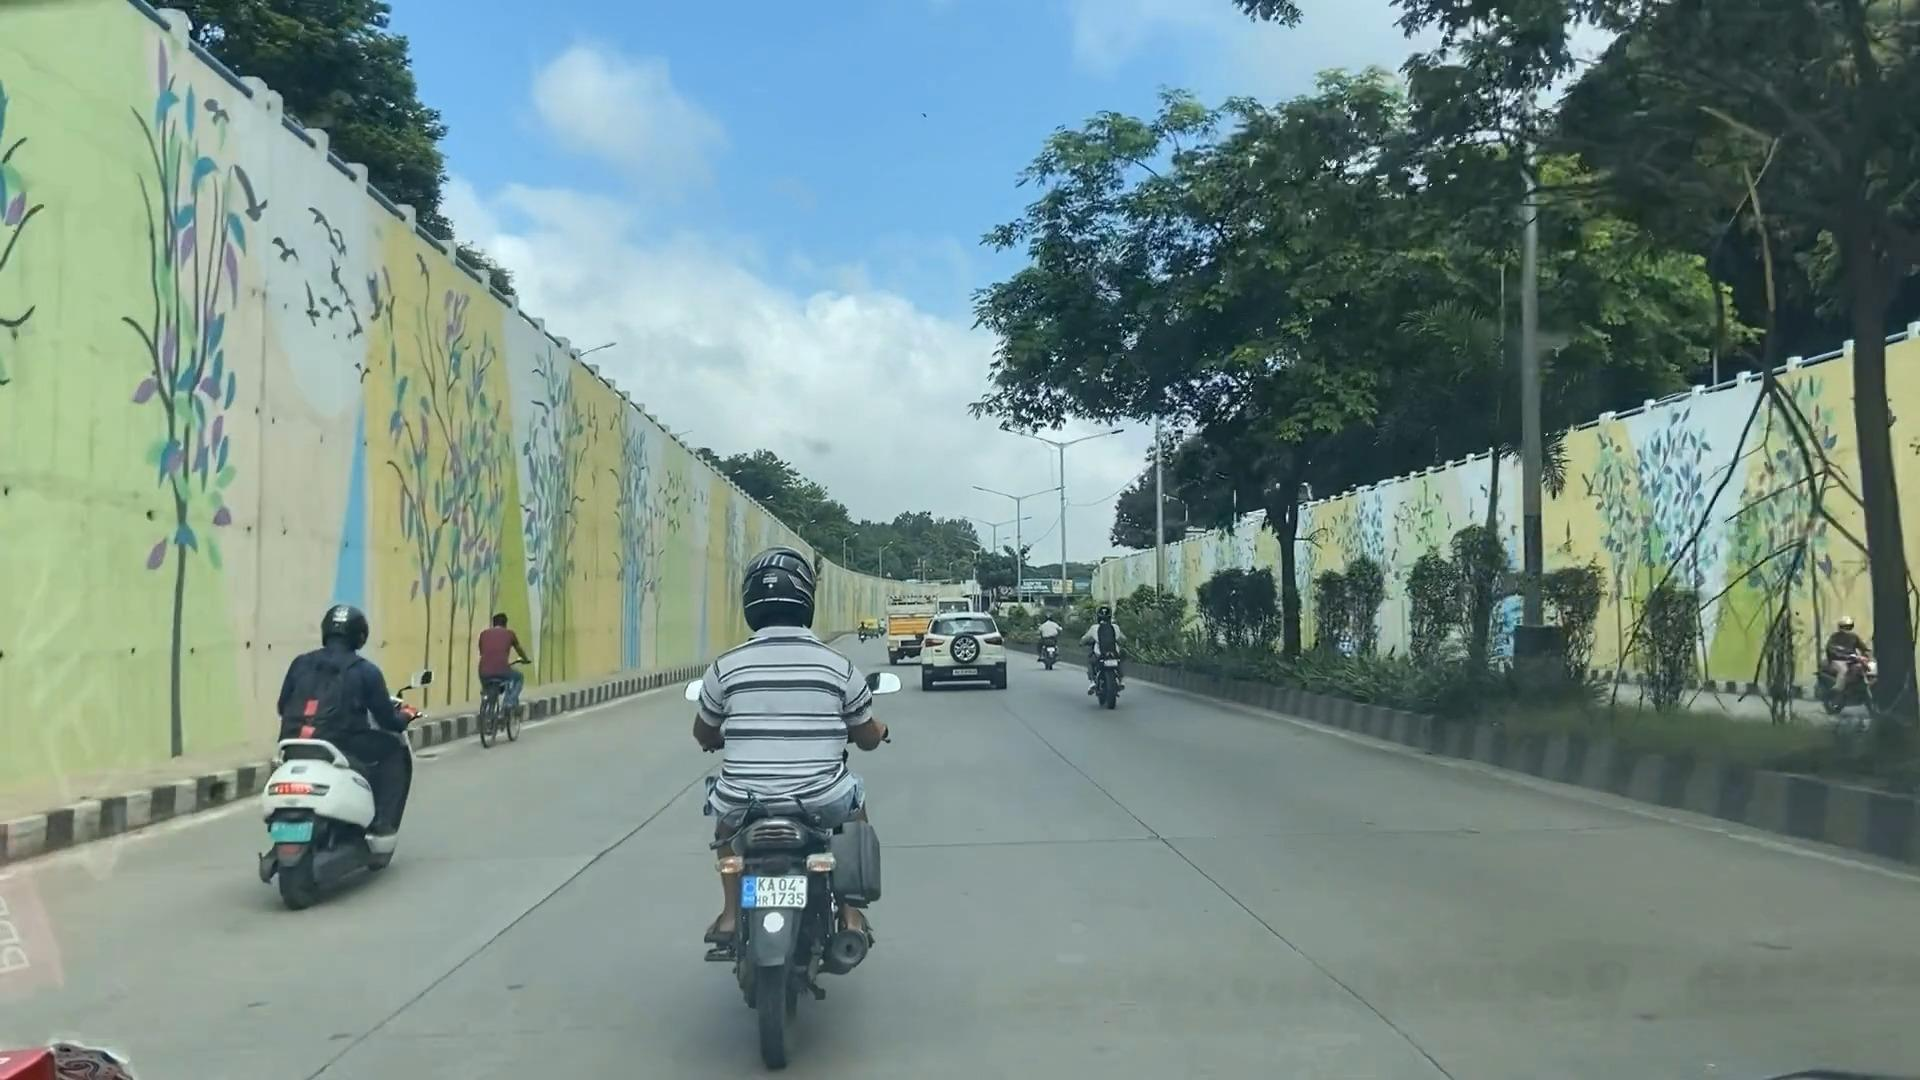LMV: (711, 549, 882, 1052), (266, 604, 414, 880), (922, 615, 1009, 698), (1092, 604, 1127, 708)
